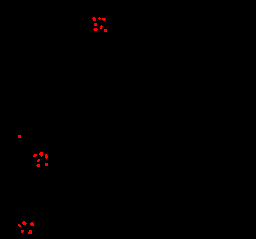Target: (39, 152, 43, 157), (22, 221, 27, 225), (92, 17, 96, 21), (30, 222, 34, 226), (28, 230, 32, 234), (93, 28, 98, 31), (45, 154, 48, 159), (102, 18, 106, 21), (100, 25, 103, 29), (33, 154, 37, 157), (36, 164, 40, 167), (98, 17, 101, 20), (94, 23, 97, 26), (104, 29, 107, 32), (18, 135, 21, 138), (37, 159, 40, 162), (45, 163, 48, 166), (18, 224, 21, 227), (21, 230, 24, 233)
